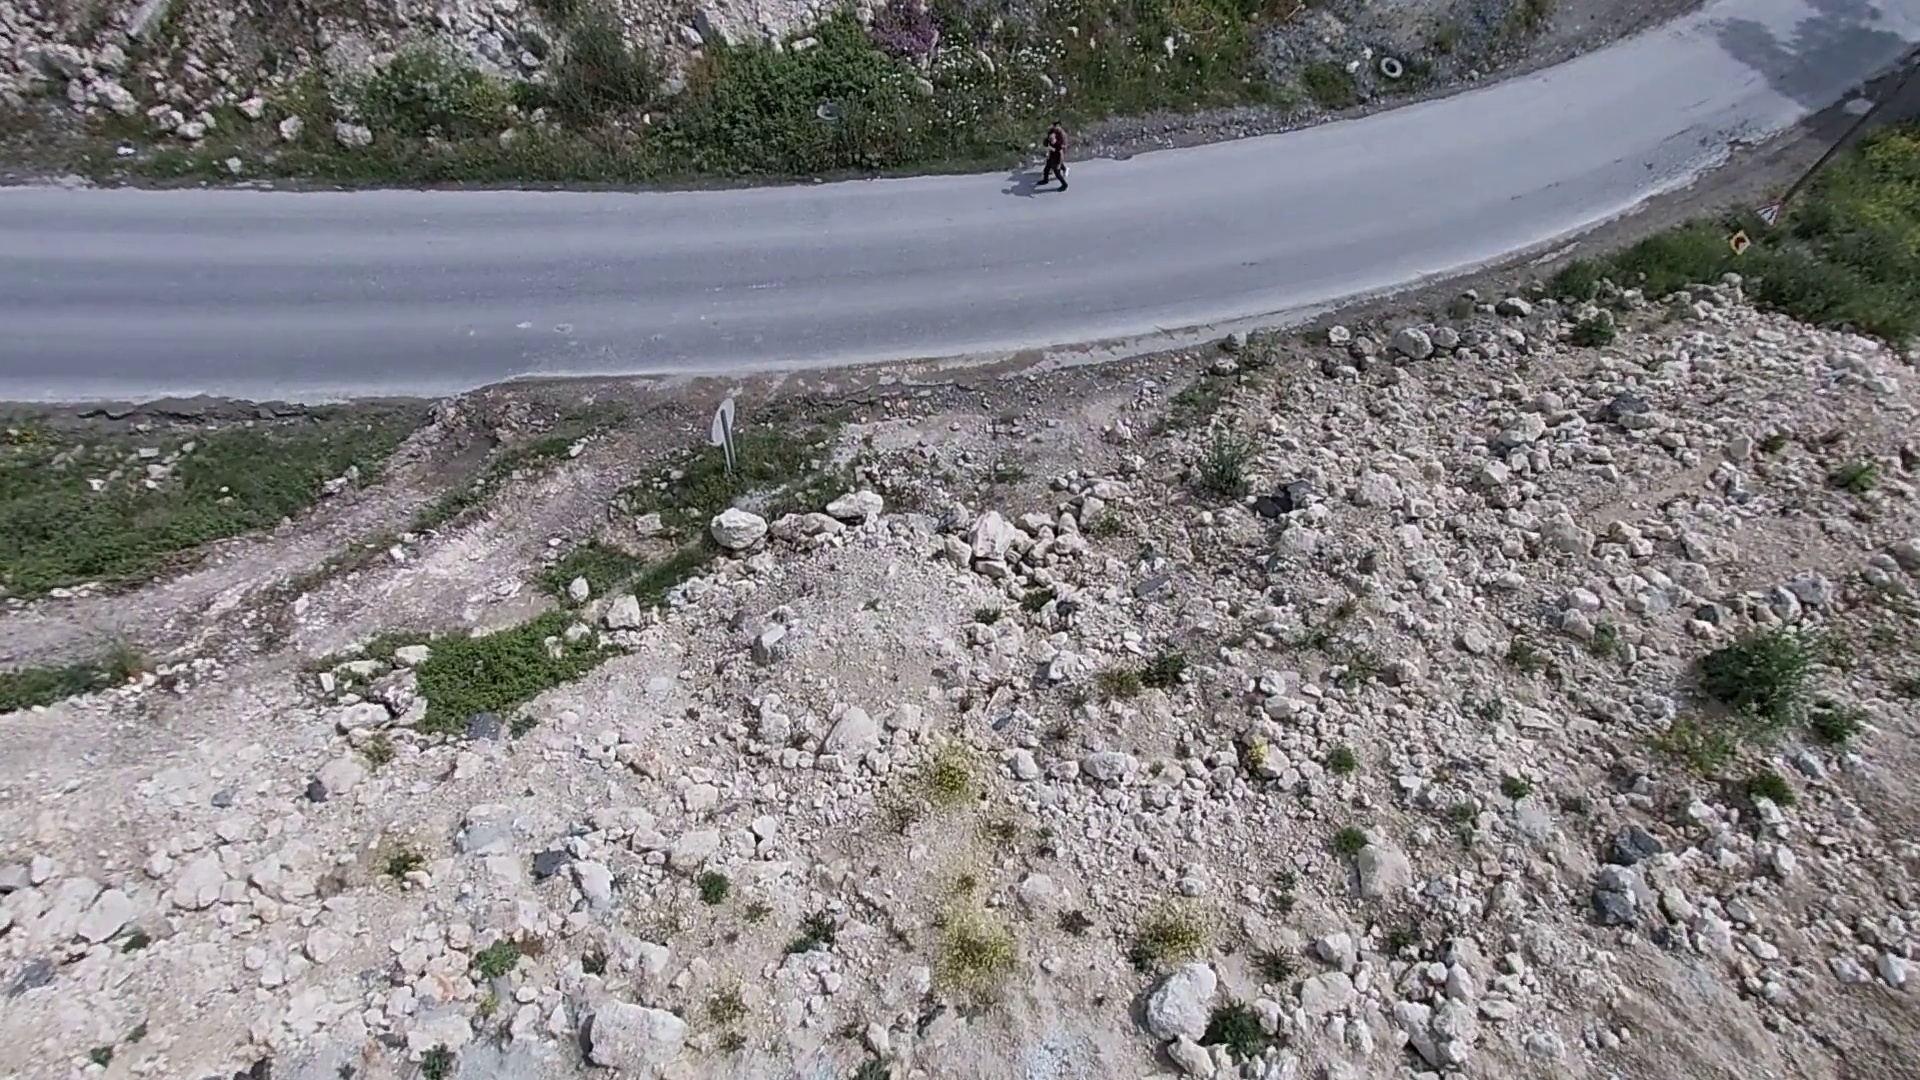insan: (1039, 132, 1069, 196), (1045, 119, 1079, 170)
